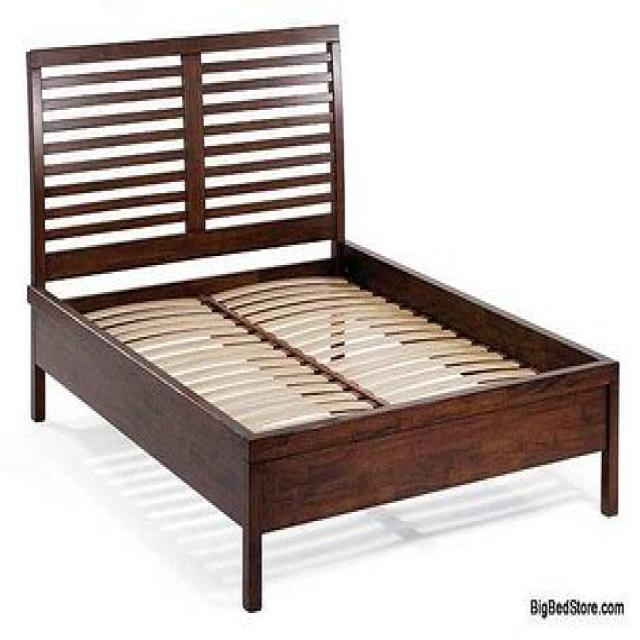bed: (25, 20, 620, 611)
